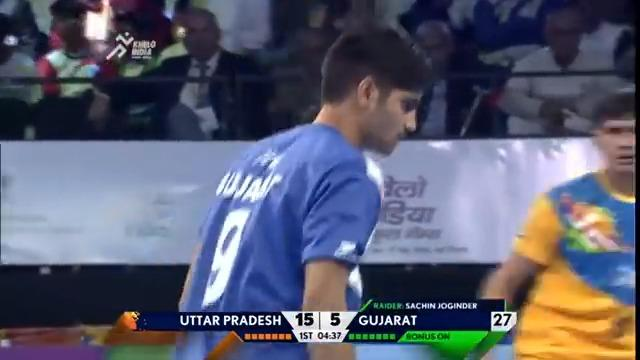Player: (474, 86, 636, 359)
Raider: (173, 24, 432, 358)
referee: (485, 0, 634, 136), (137, 7, 257, 139), (32, 0, 116, 138)
